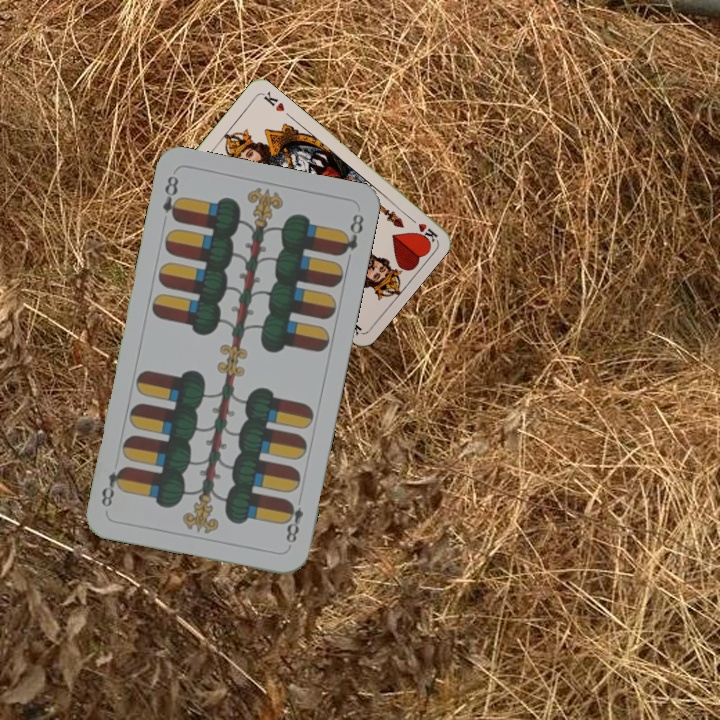E8: (158, 171, 184, 225), (280, 496, 306, 546)
HK: (404, 212, 440, 245)
